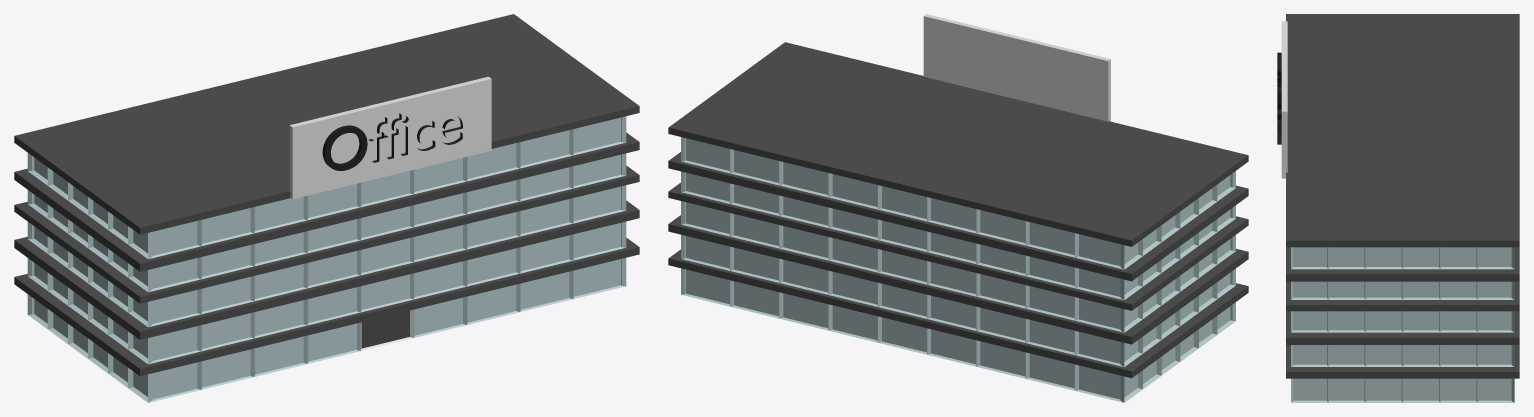
Rendered from Office_2.fbx.
The picture shows the model from 3 angles, left to right: view 1: azimuth 30°, elevation 25°; view 2: azimuth 150°, elevation 25°; view 3: azimuth 270°, elevation 25°; orthographic projection. The views are drawn at different scales.
Visible parts, largest first — view 1: Cube, Cube.001; view 2: Cube, Cube.001; view 3: Cube, Cube.001.
Boxes of the visible parts, <box> form: Cube: <box>14,14,639,402</box>; Cube.001: <box>289,76,491,199</box>; Cube: <box>668,42,1248,402</box>; Cube.001: <box>923,14,1110,121</box>; Cube: <box>1286,14,1519,402</box>; Cube.001: <box>1277,21,1287,178</box>.
Size of the model in its own units: 1454 by 682 by 657.
